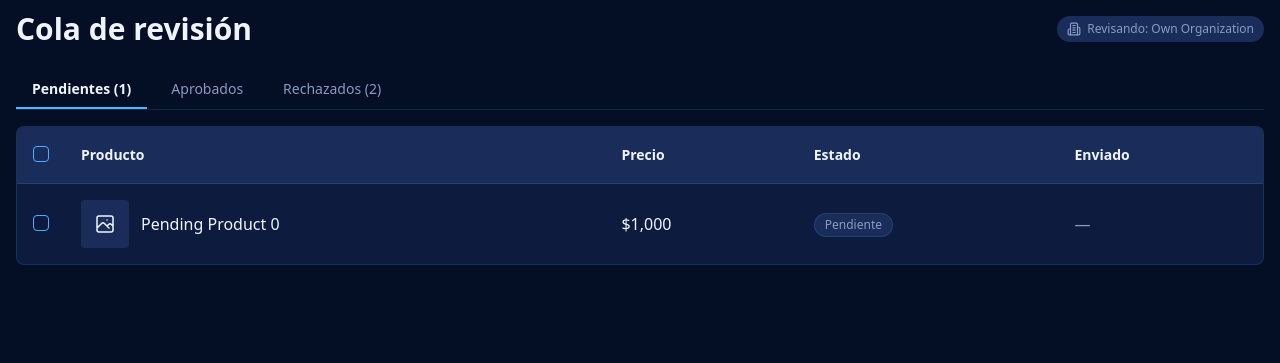
Test: ReviewQueuePage › queries rejected products when the Rechazados tab is active
Step 1. Click the tab "Rechazados (2)" → (332, 90), box [267,71,397,109]
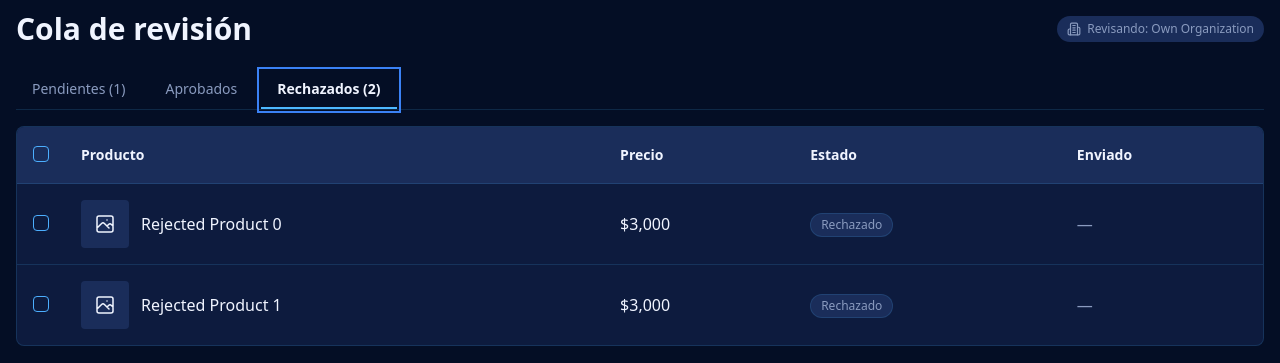
Result: the text "Rejected Product 0" is shown at [141,213,282,235]
